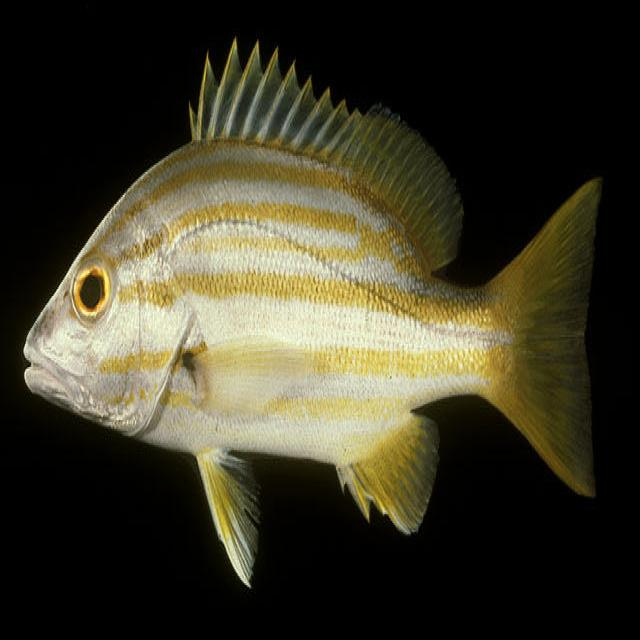ikan: (22, 34, 604, 590)
